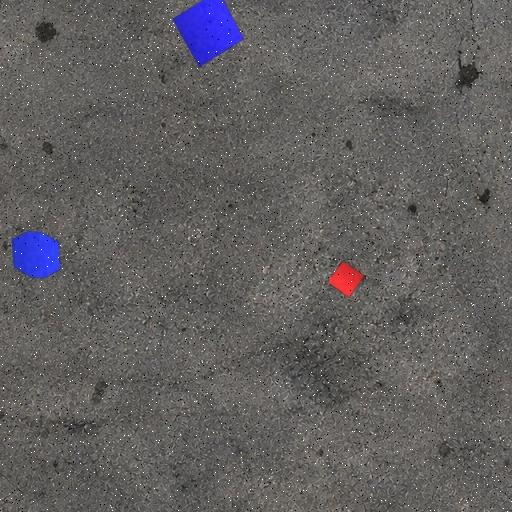BLUE_SQUARE: (172, 0, 245, 68)
RED_SQUARE: (327, 260, 366, 298)
